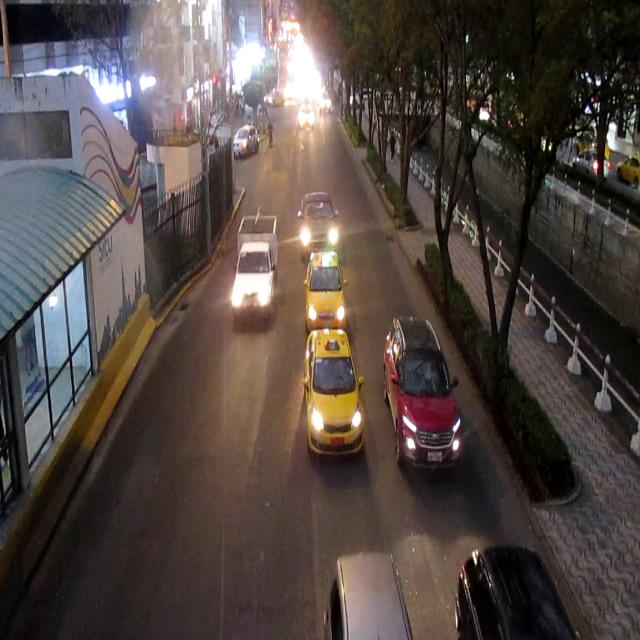CMT: (230, 218, 277, 323)
SED: (310, 330, 364, 454), (306, 254, 344, 329)
SUV: (386, 314, 465, 463), (235, 128, 259, 158)
